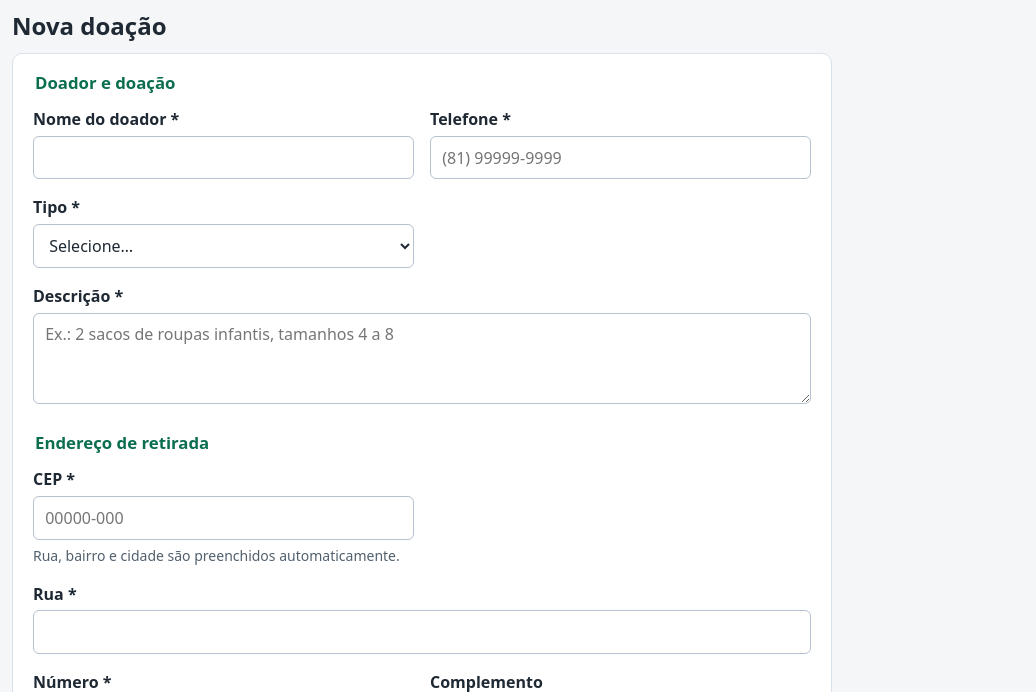
it: serviço de CEP fora do ar: sair do campo tenta de novo
Type "50030230" into the field labelled "CEP" at {"x": 224, "y": 518}, box [33,496,414,540]
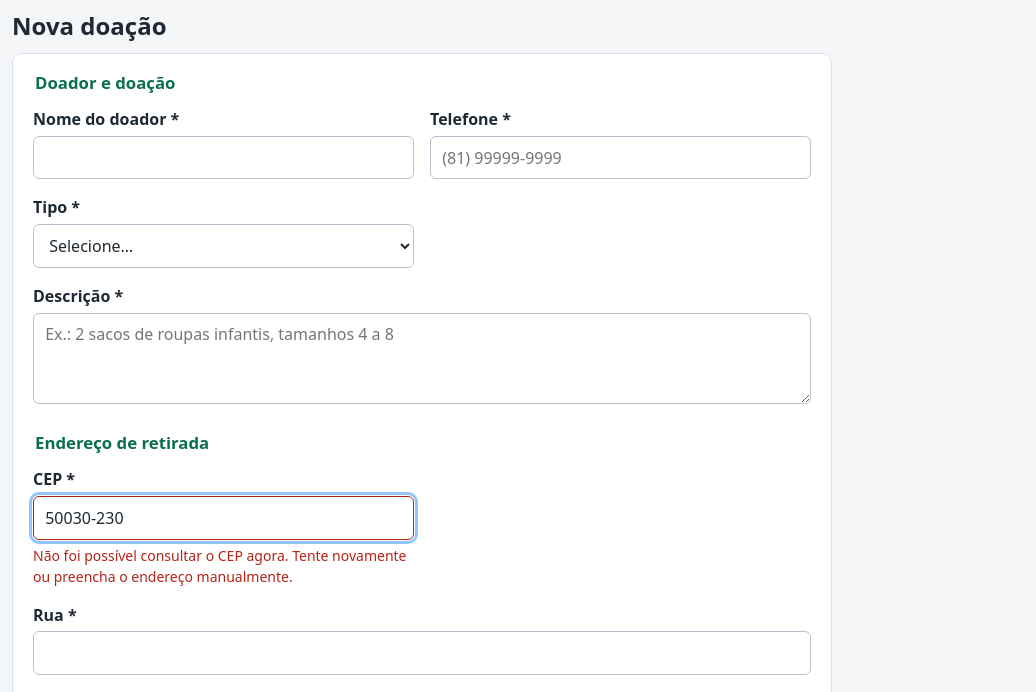
Check: the text "Não foi possível consultar o CEP agora" is shown, box [33,546,406,586]
Press Tab
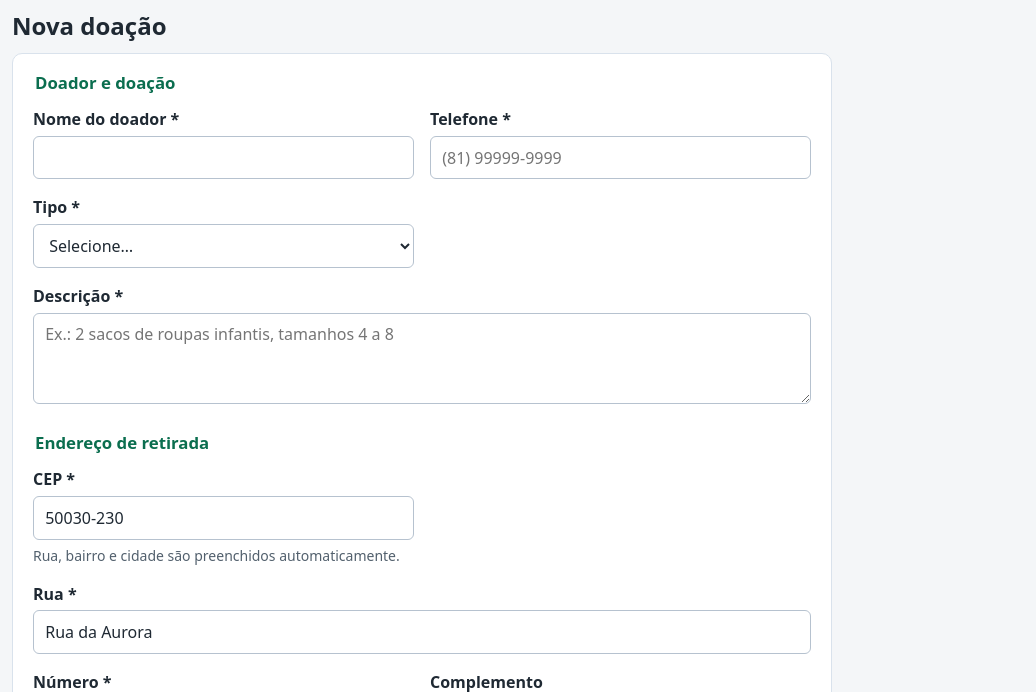
Check: the field labelled "Rua" holds "Rua da Aurora", box [33,610,811,654]
